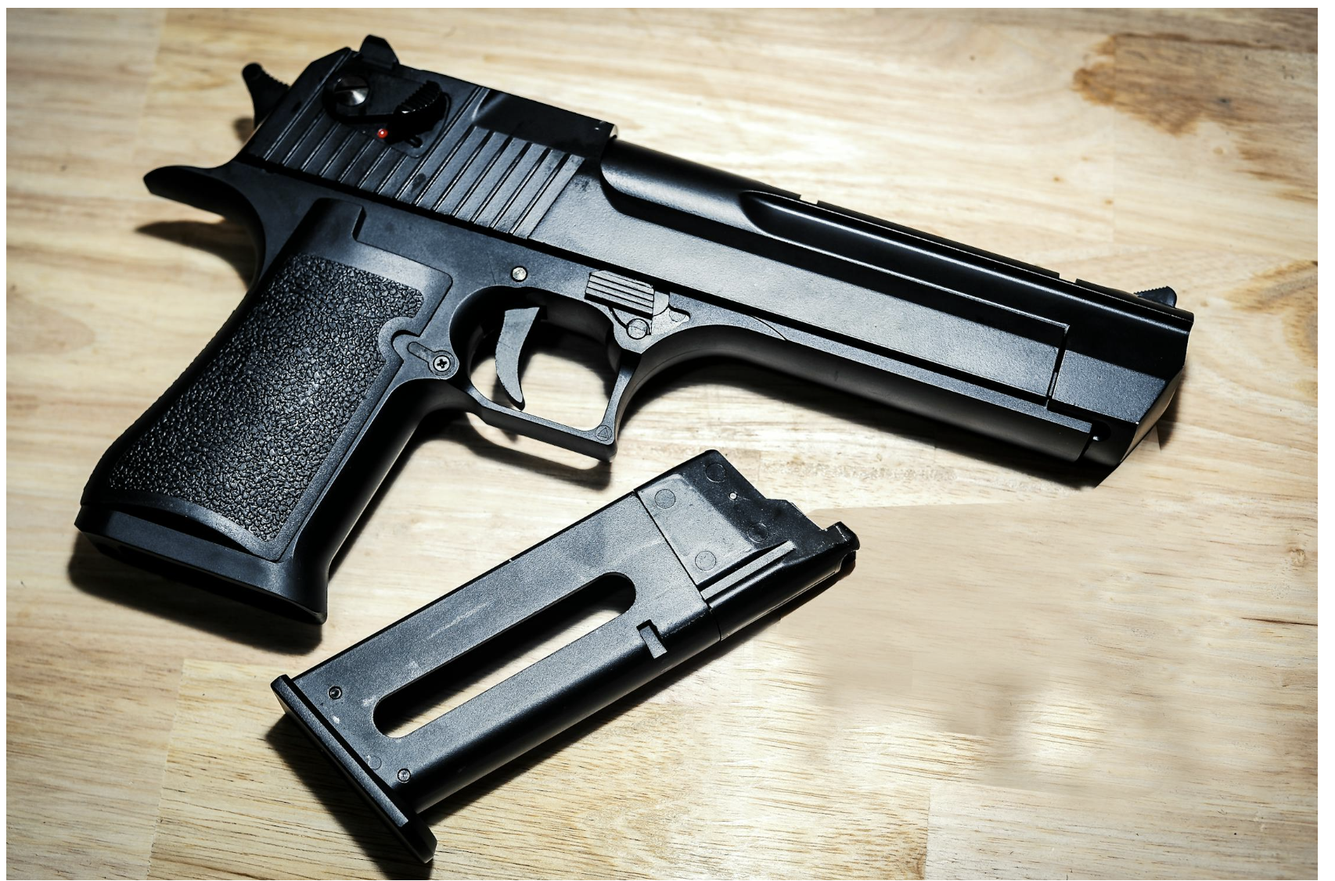gun_035.png: (38, 23, 1201, 866)
